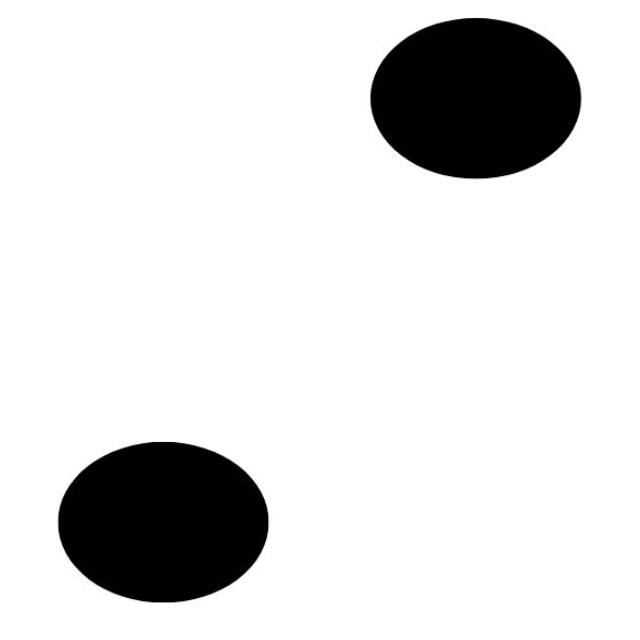ibig: (55, 15, 585, 602)
